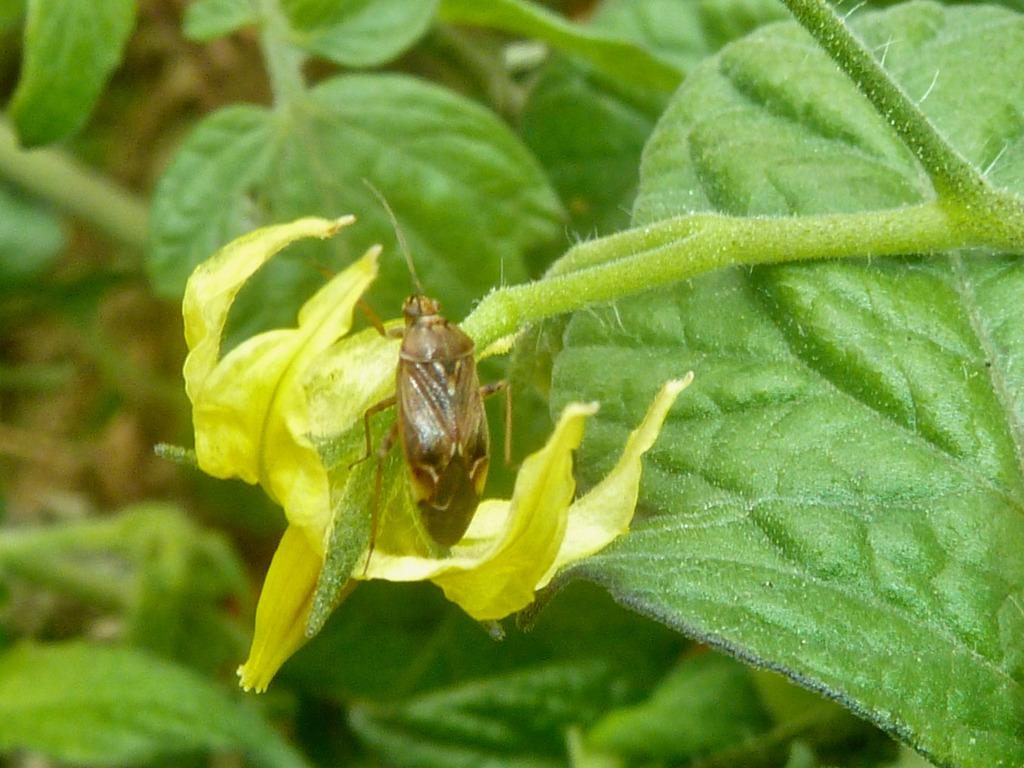plant_bugs: (277, 144, 598, 585)
